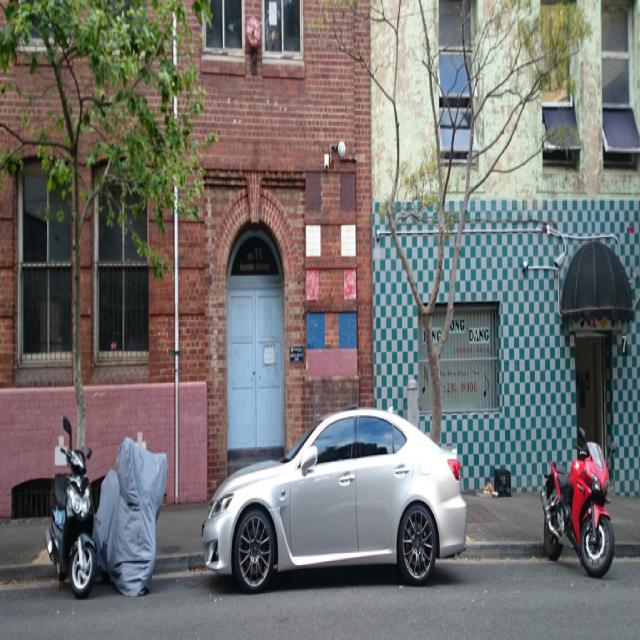car: (202, 398, 467, 587)
